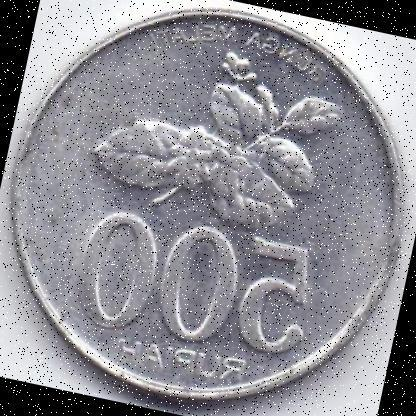coin_500_e2003: (7, 4, 403, 407)
